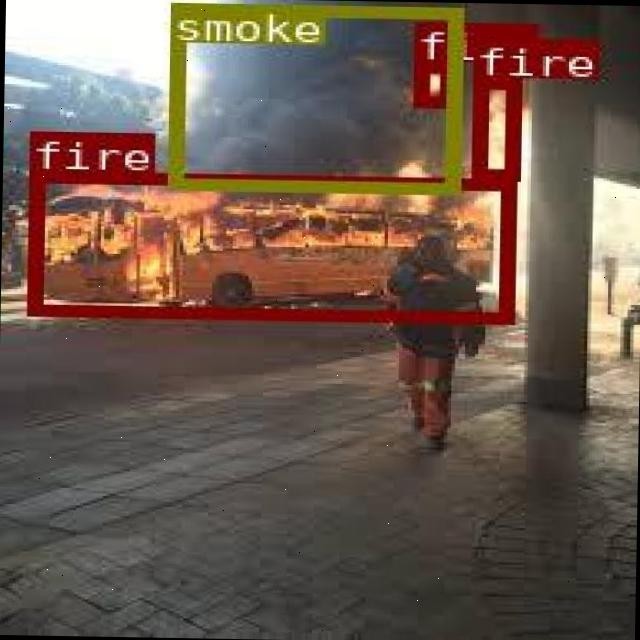fire: (28, 169, 512, 321), (469, 76, 516, 178), (412, 59, 454, 104)
smoke: (166, 1, 460, 190)
